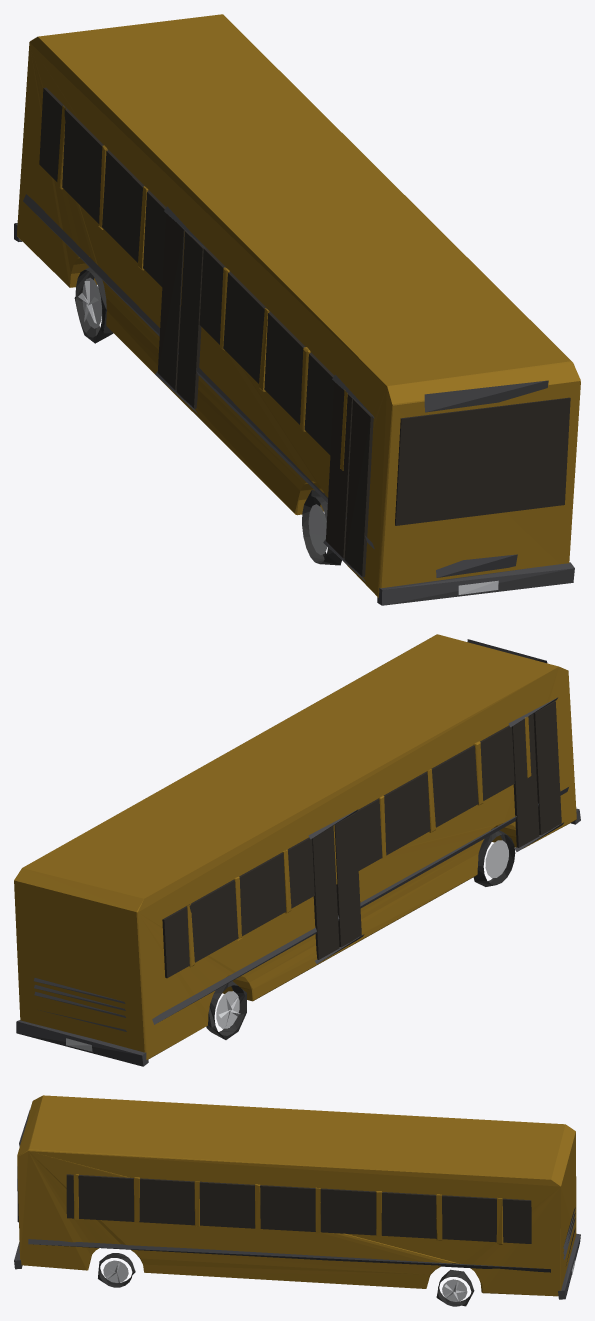
Rendered from bus-wreck-lod1.glb.
3 views of the same model, one above another, from view 1: azimuth 30°, elevation 25°; view 2: azimuth 150°, elevation 25°; view 3: azimuth 270°, elevation 25° (orthographic). The views are drawn at different scales.
Bounding box in the file's own units: 4.01 × 3.24 × 11.62.
